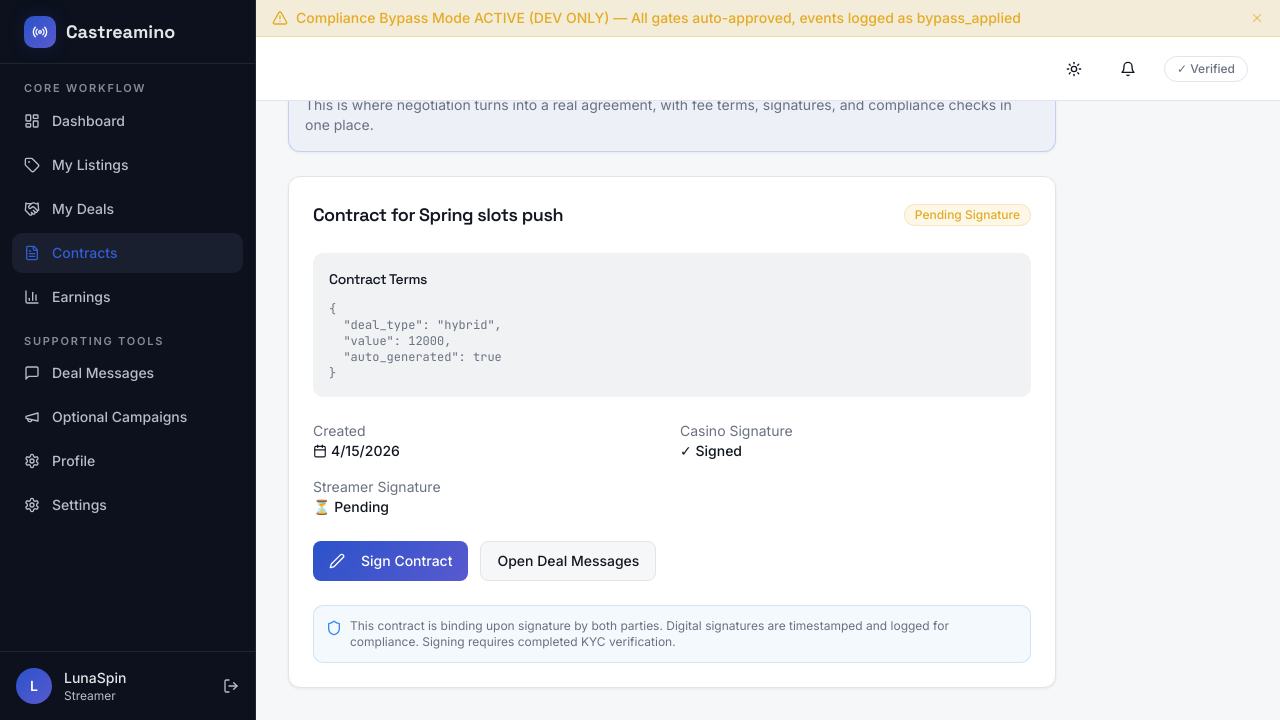
Test case: mock-mode journey flows › lets a streamer sign a pending contract from the contract route in mock mode
(page scrolled)
What coordinates should you click on to do the following:
click the button "Sign Contract"
I would click on:
 (391, 560)
Its box is [313,540,468,580].
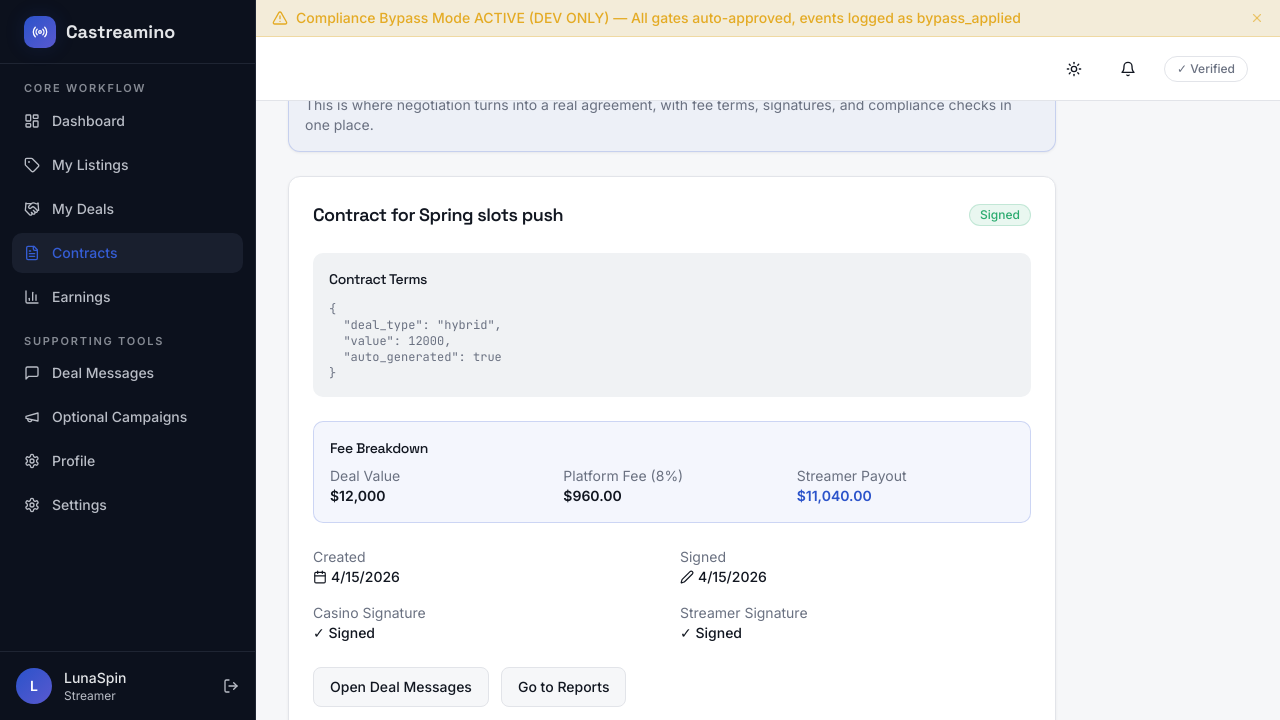
Check: the button "Go to Reports" is shown, box [501,666,626,706]
